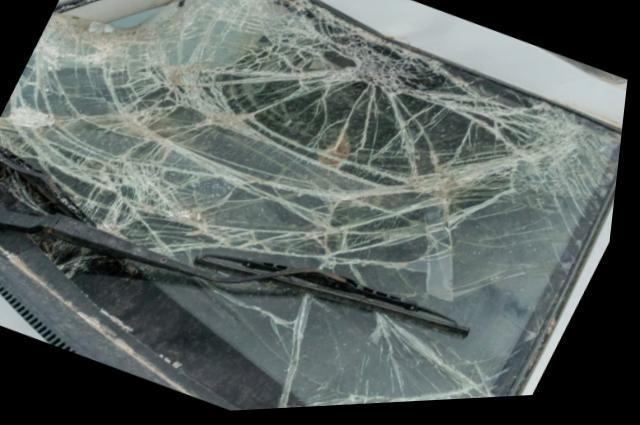glass shatter: (0, 0, 625, 413)
